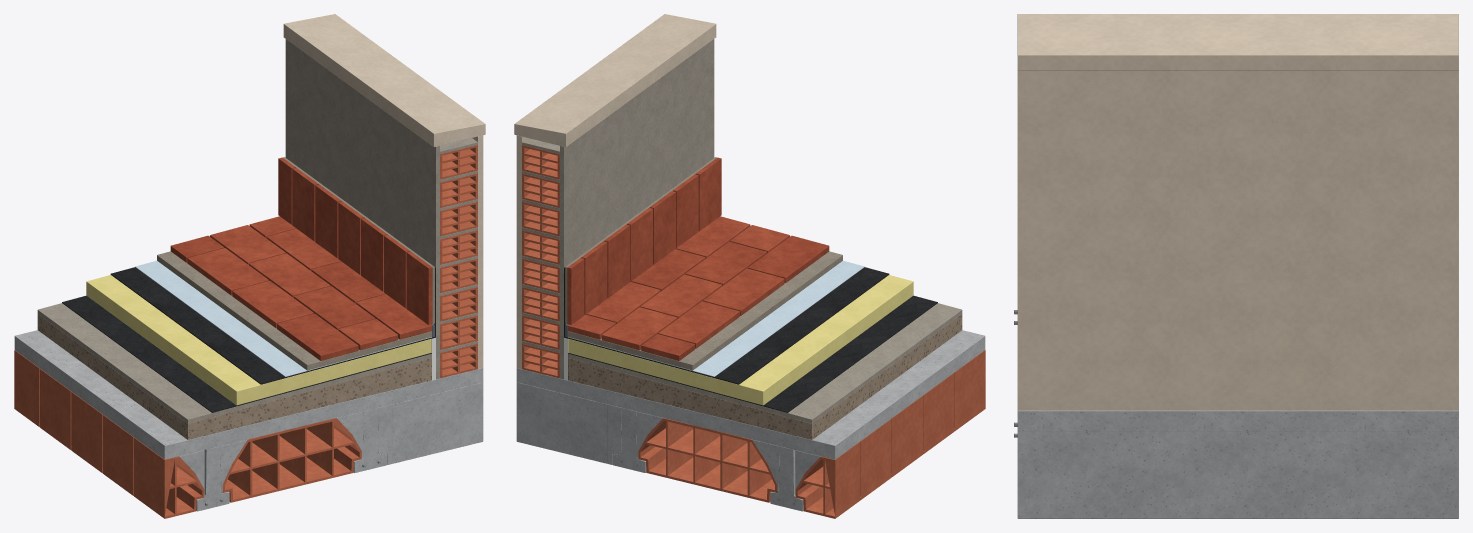
The model's file is detalle1_ive_peto.glb.
The picture shows the model from 3 angles, left to right: view 1: azimuth 30°, elevation 25°; view 2: azimuth 150°, elevation 25°; view 3: azimuth 270°, elevation 25°; orthographic projection. The views are drawn at different scales.
Parts seen in each view (by area): view 1: Peto_Render, SR_Slab, SR_Bovedillas, P_Tiles, P_Rodapie, Peto_Bricks, AT_XPS, FP_Concrete, FP_Regularization, I_Membrane, BV_VaporBarrier, P_Mortar (+2 smaller); view 2: Peto_Render, SR_Slab, SR_Bovedillas, P_Tiles, P_Rodapie, Peto_Bricks, AT_XPS, FP_Concrete, FP_Regularization, I_Membrane, BV_VaporBarrier, P_Mortar (+2 smaller); view 3: Peto_Render, SR_Slab.
Boxes of the visible parts, x1,y1,x2,y2 form: Peto_Render: [283, 14, 485, 379]; SR_Slab: [14, 330, 483, 496]; SR_Bovedillas: [14, 350, 361, 518]; P_Tiles: [170, 216, 431, 360]; P_Rodapie: [278, 157, 434, 324]; Peto_Bricks: [440, 138, 477, 378]; AT_XPS: [86, 275, 431, 405]; FP_Concrete: [37, 314, 431, 439]; FP_Regularization: [37, 303, 431, 423]; I_Membrane: [110, 267, 435, 384]; BV_VaporBarrier: [62, 295, 431, 412]; P_Mortar: [157, 251, 431, 370]; Peto_Render: [514, 14, 716, 379]; SR_Slab: [516, 330, 985, 496]; SR_Bovedillas: [638, 350, 985, 518]; P_Tiles: [568, 216, 829, 360]; P_Rodapie: [565, 157, 721, 324]; Peto_Bricks: [522, 138, 559, 378]; AT_XPS: [568, 275, 913, 405]; FP_Concrete: [568, 314, 962, 439]; FP_Regularization: [568, 303, 962, 423]; I_Membrane: [564, 267, 889, 384]; BV_VaporBarrier: [568, 295, 937, 412]; P_Mortar: [568, 251, 842, 370]; Peto_Render: [1017, 14, 1458, 410]; SR_Slab: [1017, 410, 1458, 518].
Bounding box in the file's own units: 1.18 × 1.13 × 0.968.
Materials: 15 (12 with a texture image).
